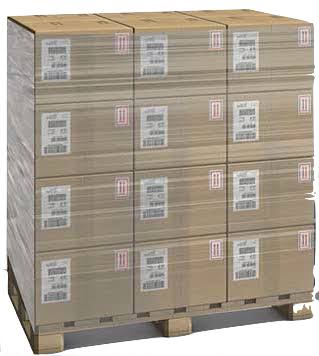box: (33, 170, 135, 253), (33, 241, 135, 324), (34, 96, 131, 177), (133, 162, 228, 243), (132, 93, 227, 172), (133, 23, 227, 102), (226, 156, 317, 237), (34, 29, 132, 104), (133, 234, 227, 310), (227, 224, 315, 301), (227, 89, 316, 165), (226, 26, 316, 100)
box_label: (138, 102, 171, 151), (38, 109, 72, 156), (39, 185, 72, 231), (137, 175, 170, 221), (138, 246, 170, 293), (39, 257, 71, 303), (229, 234, 260, 281), (138, 34, 170, 79), (39, 38, 72, 81), (230, 31, 262, 74), (230, 168, 260, 213), (231, 98, 260, 143)
pallet: (1, 253, 319, 356)
